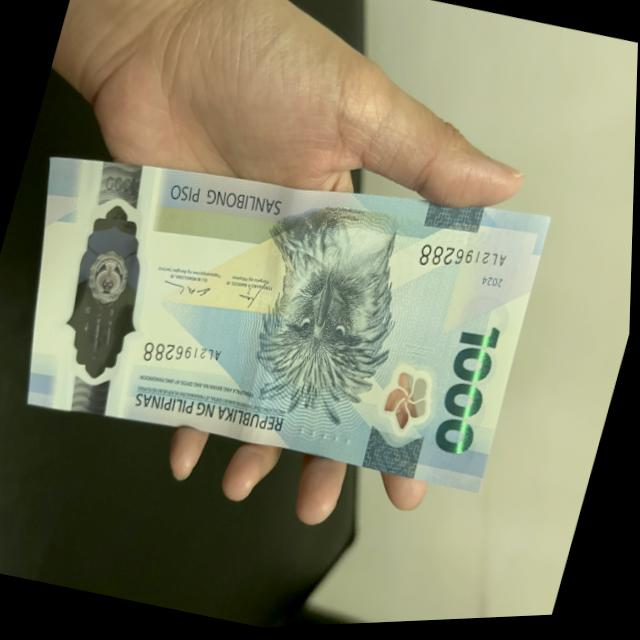clear_window: (47, 195, 164, 397)
eagle: (249, 204, 407, 419)
sampaguita: (375, 356, 440, 441)
